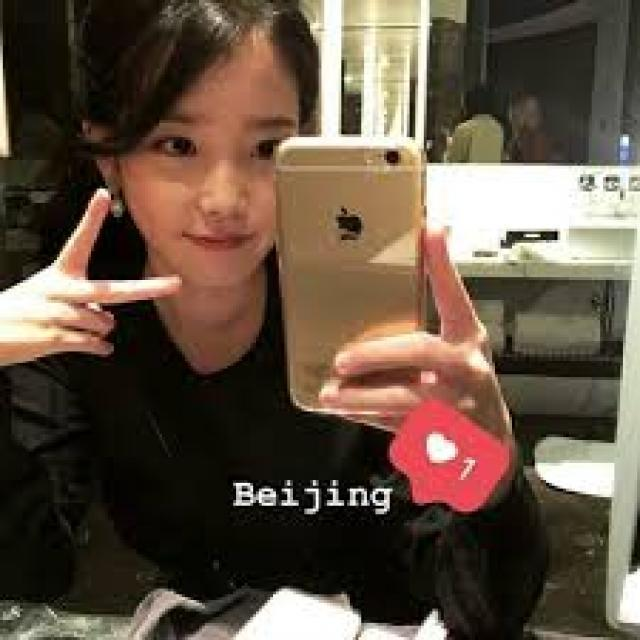phone: (273, 132, 430, 418)
